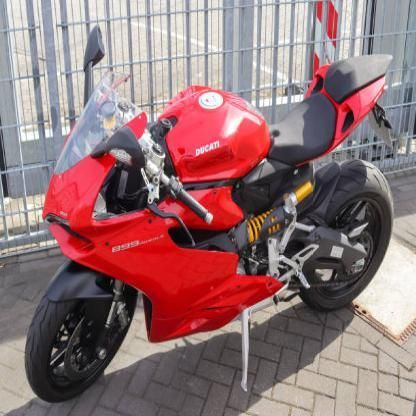Motorcycle: (15, 29, 411, 404)
